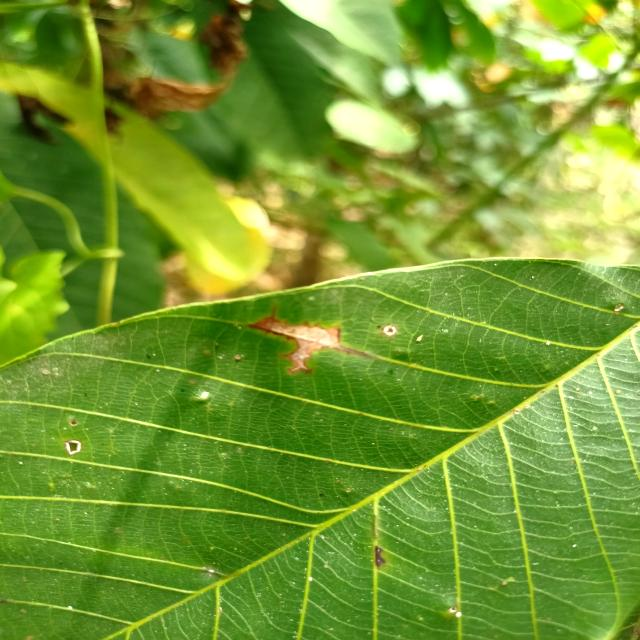Leaf-Blight: (259, 318, 339, 372)
